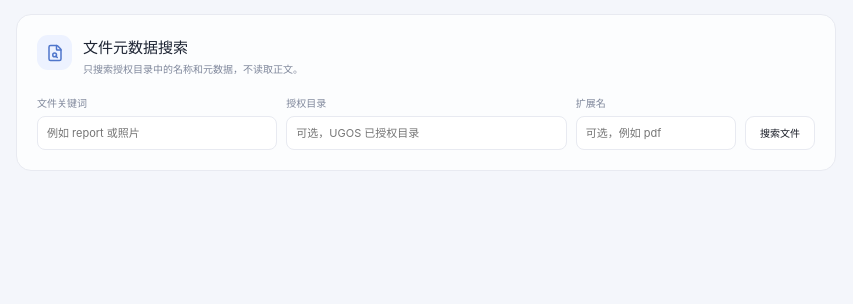
Scenario: file metadata search panel › submits metadata filters and renders results without body content
In the field labelled "文件关键词": (157, 132) [37,116,277,150], type "report"
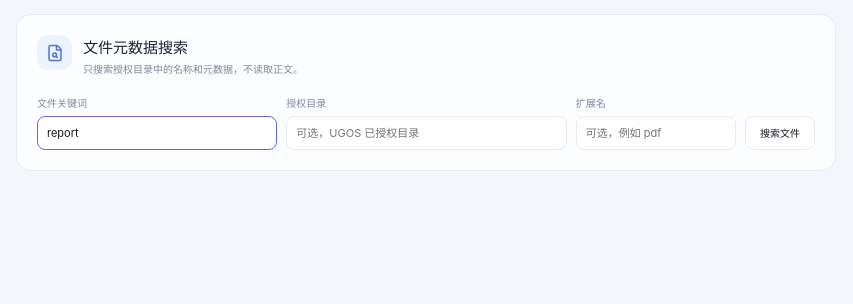
In the field labelled "授权目录": (426, 132) [286,116,567,150], type "/photos"
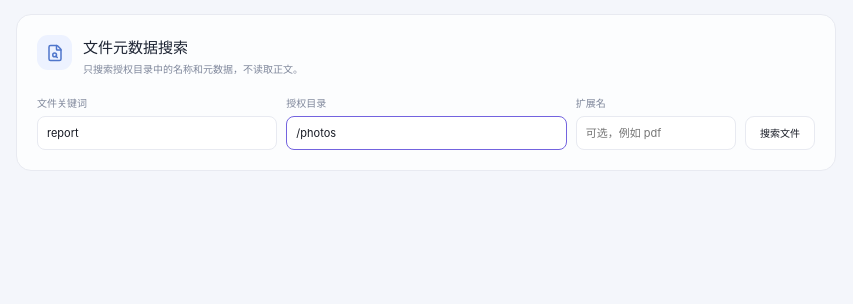
Click the button "搜索文件": (780, 132) [745,116,815,150]
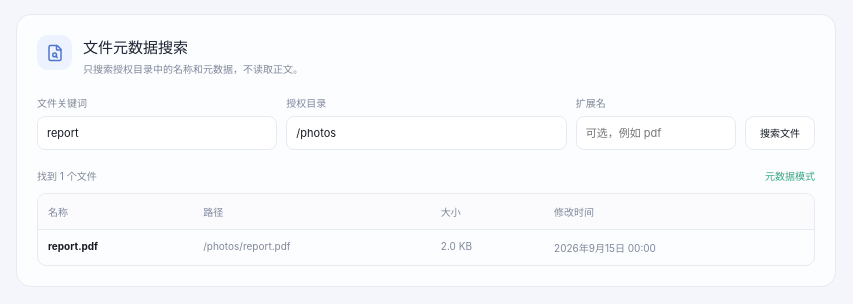
Expected: the text "report.pdf" is shown, [48,240,98,252]
